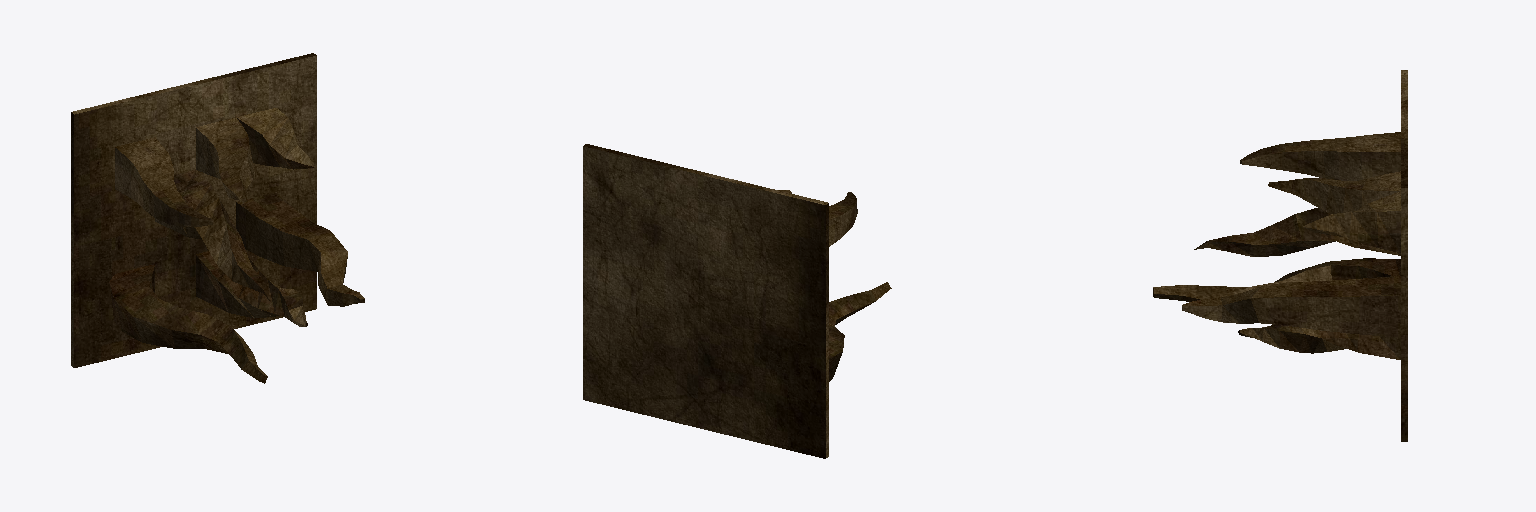
3 views of the same model, side by side, from view 1: azimuth 30°, elevation 25°; view 2: azimuth 150°, elevation 25°; view 3: azimuth 270°, elevation 25° (orthographic).
Parts seen in each view (by area): view 1: Box001; view 2: Box001; view 3: Box001.
Part boxes in pixels (x1,y1,x2,y2): Box001: (71, 53, 364, 383); Box001: (583, 144, 891, 458); Box001: (1153, 70, 1407, 441).
Size of the model in its own units: 40 by 40 by 36.43.
Materials: 1 (1 with a texture image).